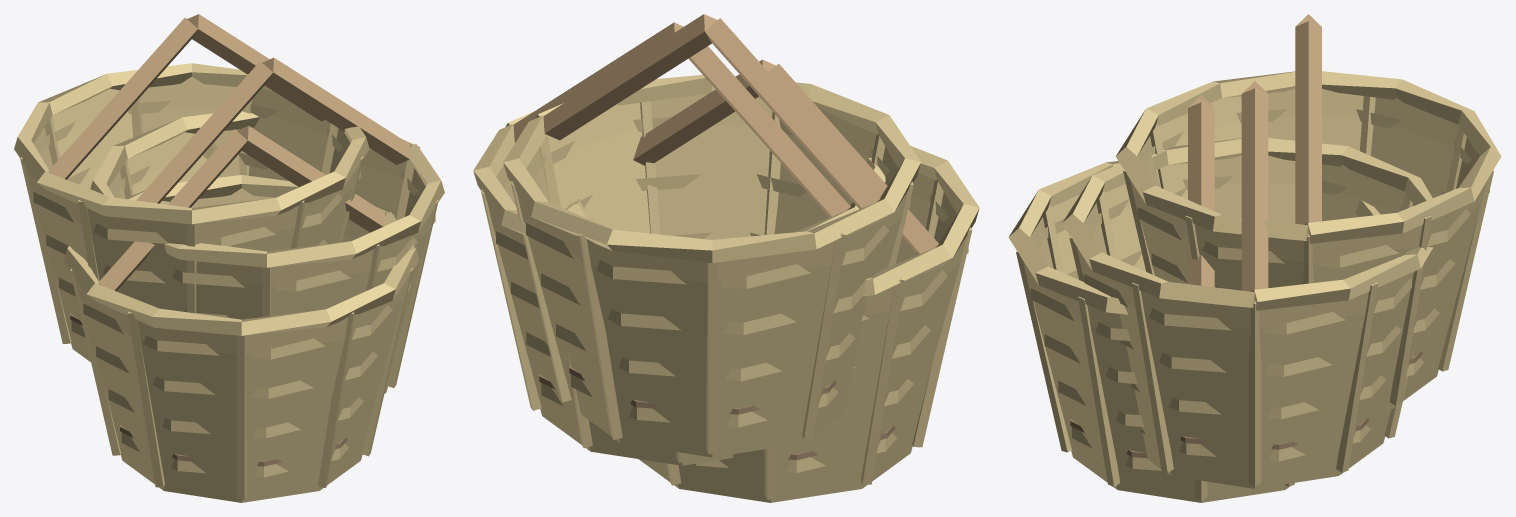
Rendered from item_039_basket_m.glb.
3 renders of one model, left to right at view 1: azimuth 30°, elevation 25°; view 2: azimuth 150°, elevation 25°; view 3: azimuth 270°, elevation 25°, orthographic. The views are drawn at different scales.
Visible parts, largest first — view 1: item_039_basket_m; view 2: item_039_basket_m; view 3: item_039_basket_m.
Part boxes in pixels (x1=…): item_039_basket_m: x1=14, y1=14, x2=444, y2=502; item_039_basket_m: x1=473, y1=14, x2=979, y2=502; item_039_basket_m: x1=1008, y1=14, x2=1501, y2=502.
Bounding box in the file's own units: 0.5012 × 0.5315 × 0.552.
